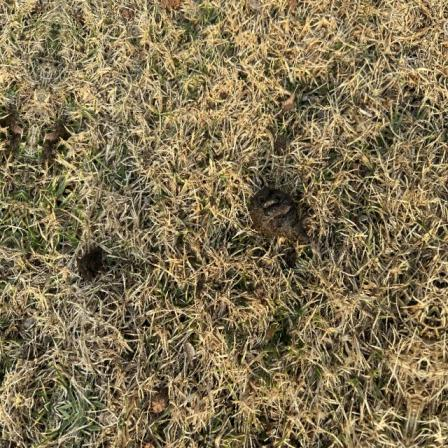dog-poop: (235, 186, 317, 249)
